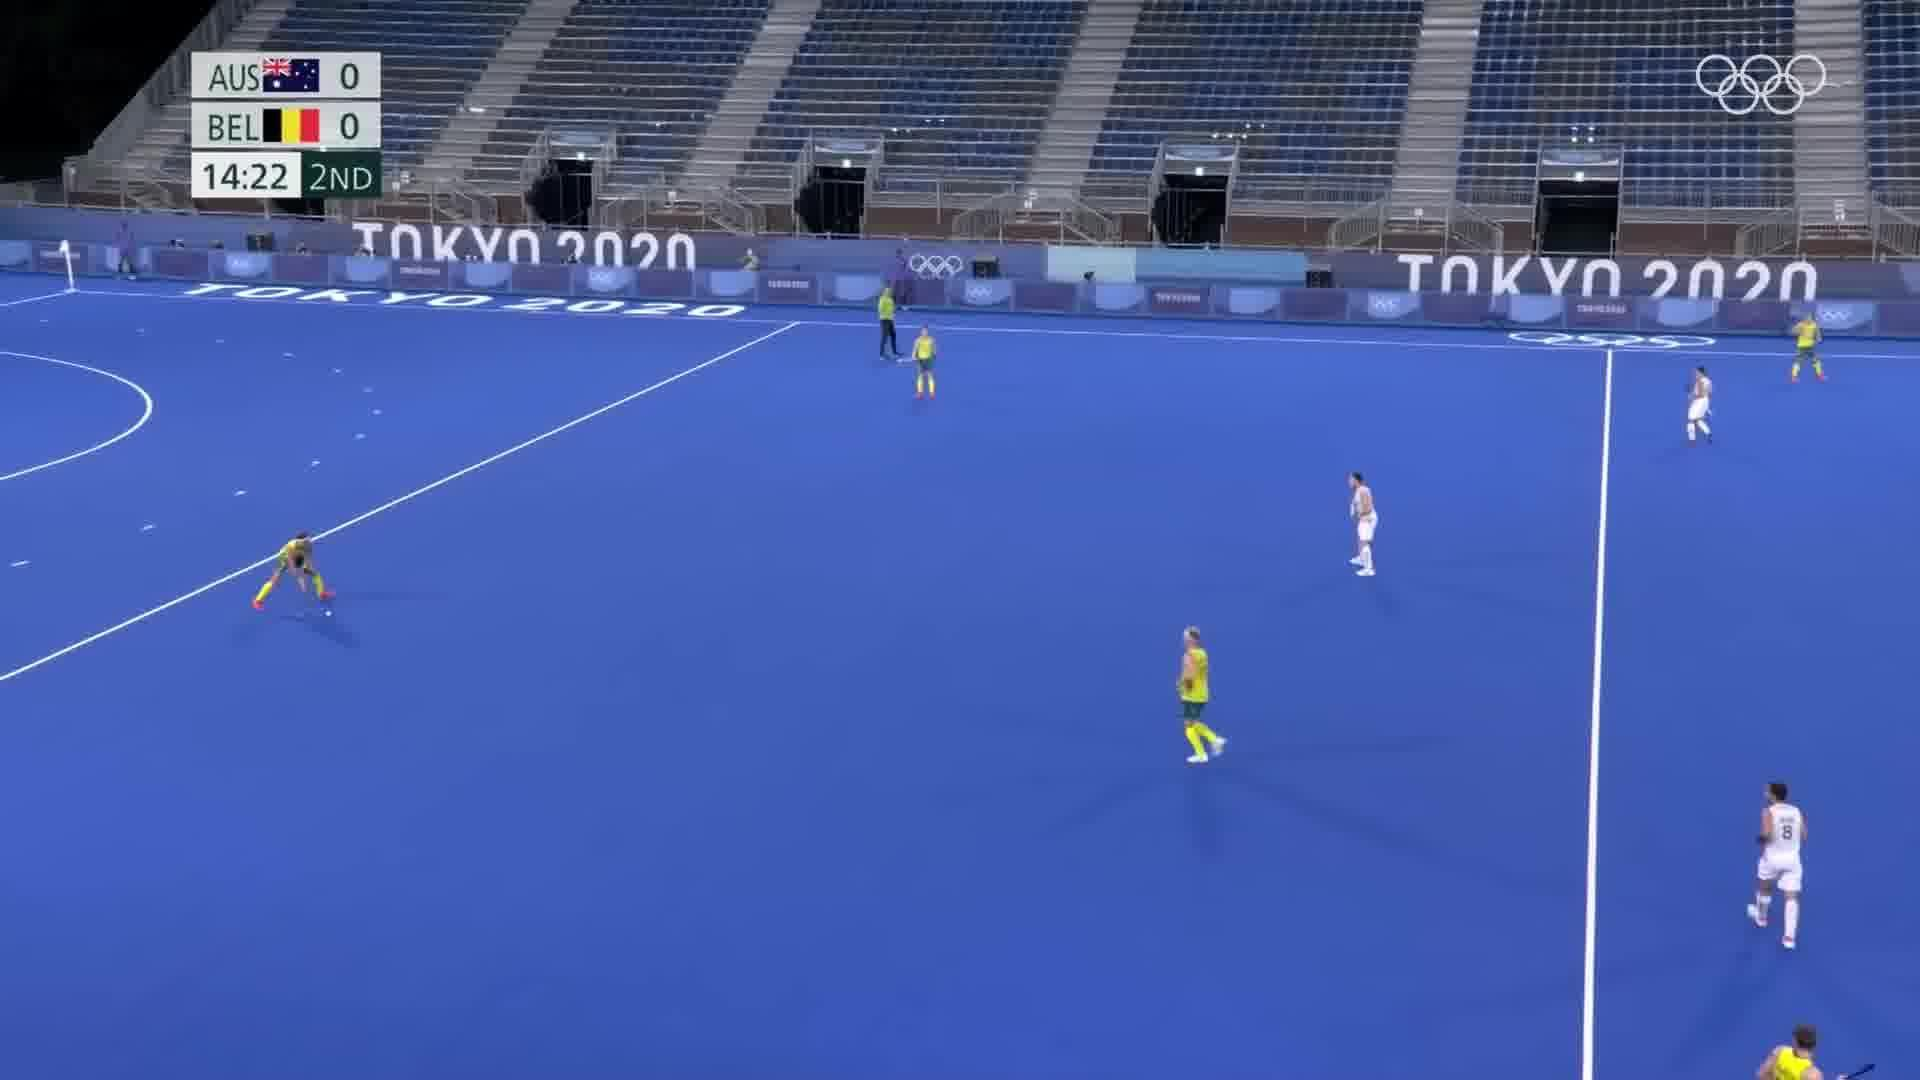ball: (323, 607, 338, 620)
